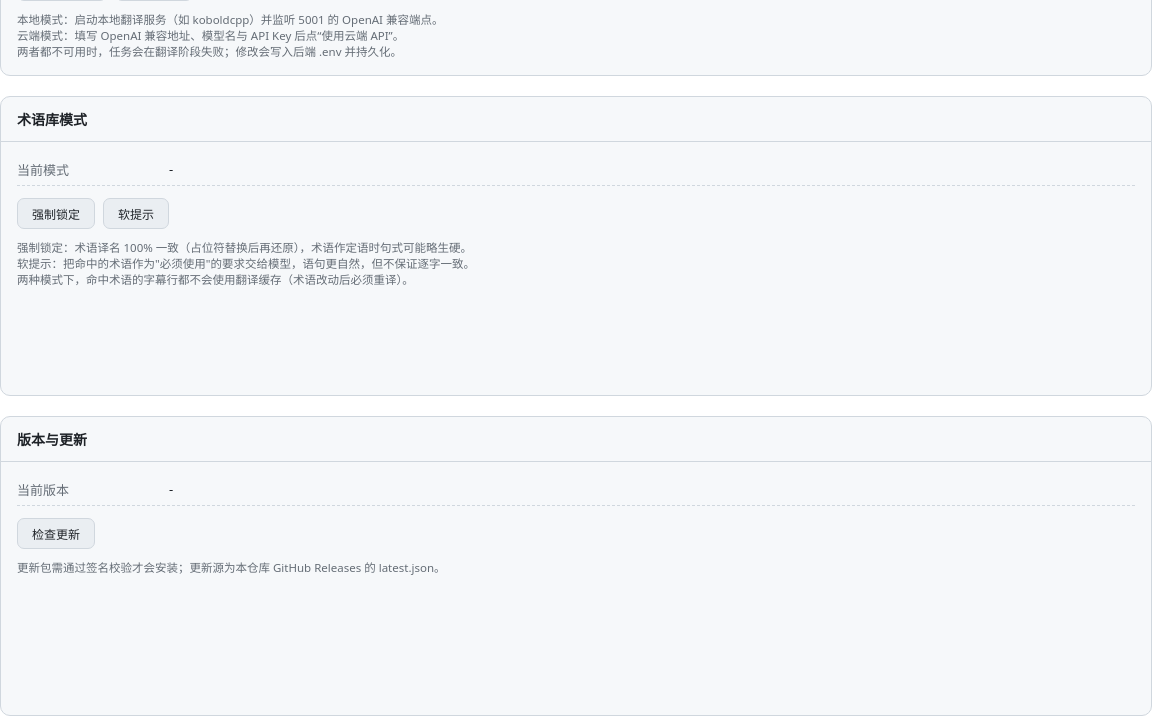
SettingsPage 版本与更新 › 已是最新时给出提示
(page scrolled)
Click the button "检查更新". click: (56, 534)
box: [17,518,95,549]
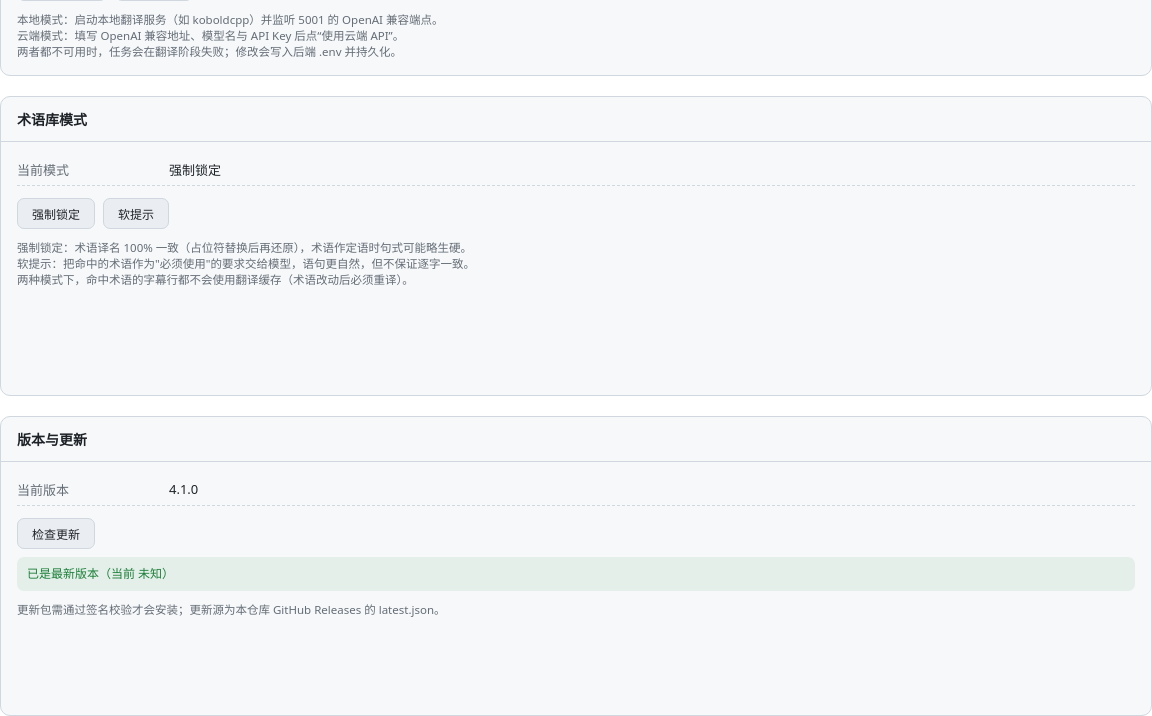
expect the text "已是最新版本（当前 未知）" is shown: met, box [17,557,1135,591]
